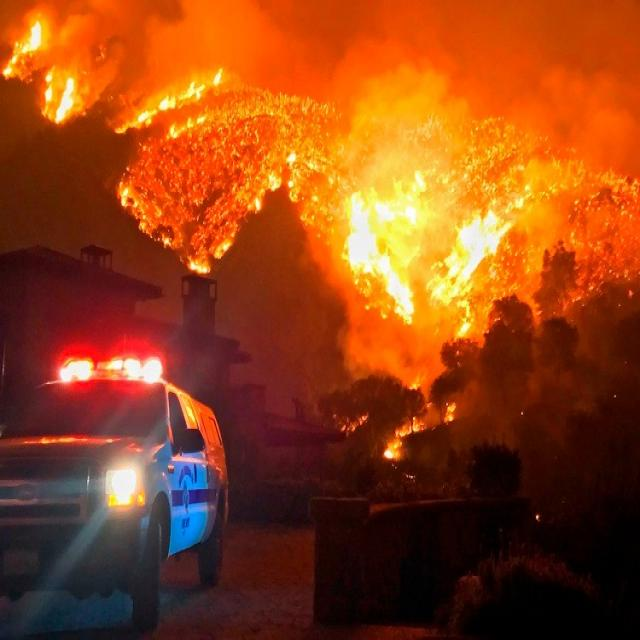Fire: (114, 47, 640, 404), (10, 18, 114, 127)
